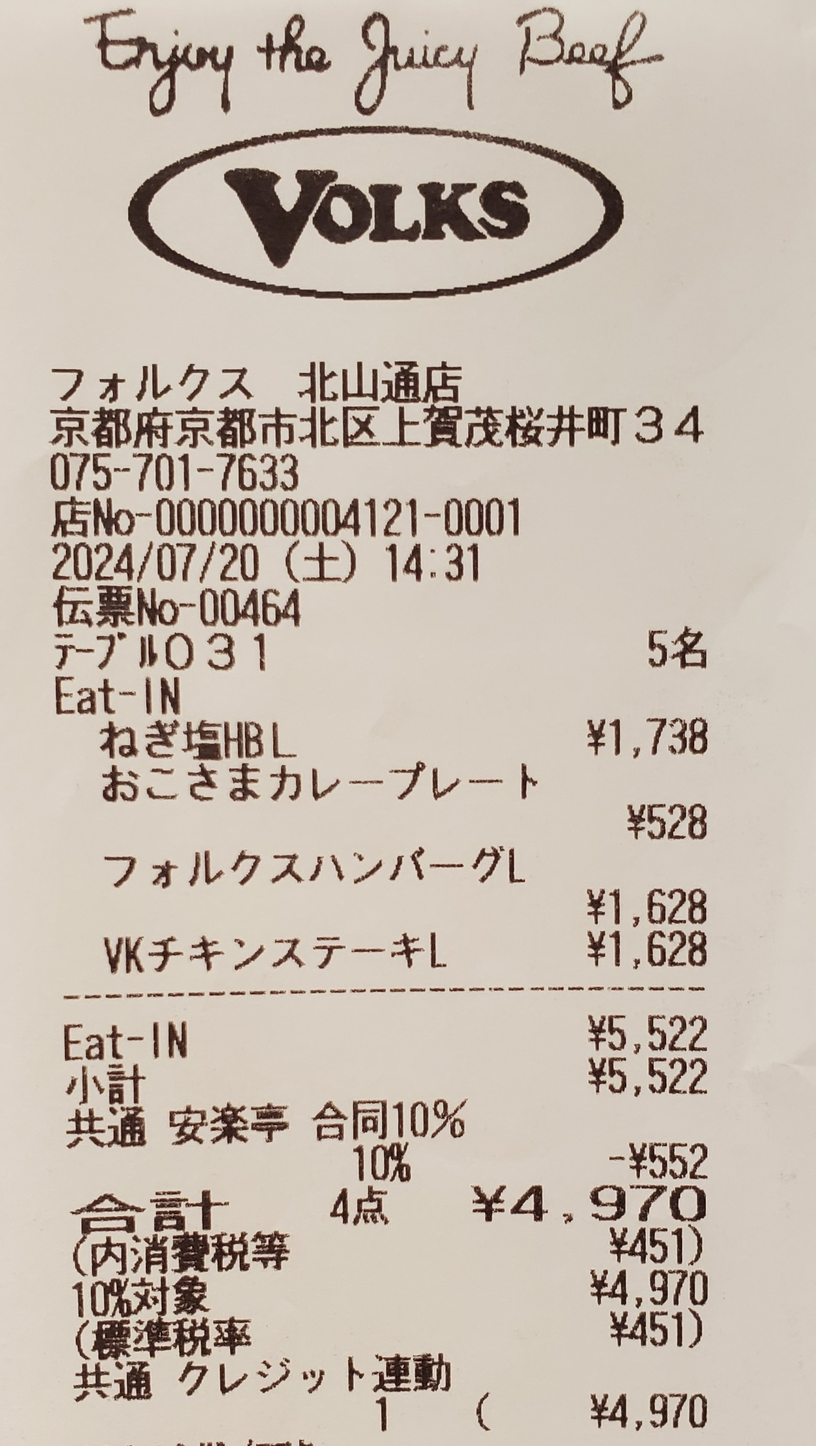Date: (43, 535, 272, 591)
Shopname: (107, 111, 670, 302)
Telnum: (45, 445, 318, 495)
Totalpay: (70, 1172, 724, 1232)
